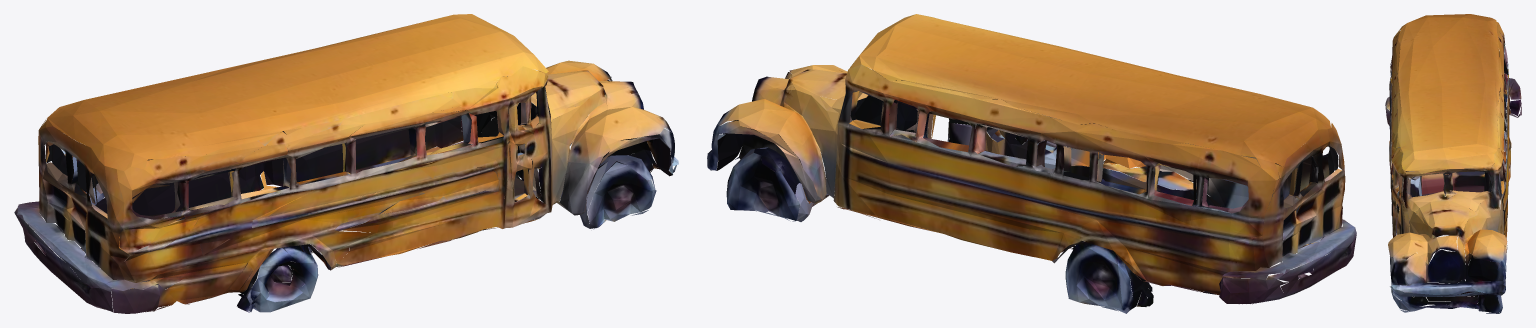
The model's file is burnt-bus-wreck.glb.
3 views of the same model, side by side, from view 1: azimuth 30°, elevation 25°; view 2: azimuth 150°, elevation 25°; view 3: azimuth 270°, elevation 25° (orthographic). The views are drawn at different scales.
Parts seen in each view (by area): view 1: tmp6z76gdd7.ply; view 2: tmp6z76gdd7.ply; view 3: tmp6z76gdd7.ply.
Boxes of the visible parts, box(x1,y1,x2,y2) form: tmp6z76gdd7.ply: box(14, 14, 678, 313); tmp6z76gdd7.ply: box(707, 14, 1356, 313); tmp6z76gdd7.ply: box(1385, 14, 1521, 313).
Bounding box in the file's own units: 10 × 3.2 × 3.
Materials: 1 (1 with a texture image).
